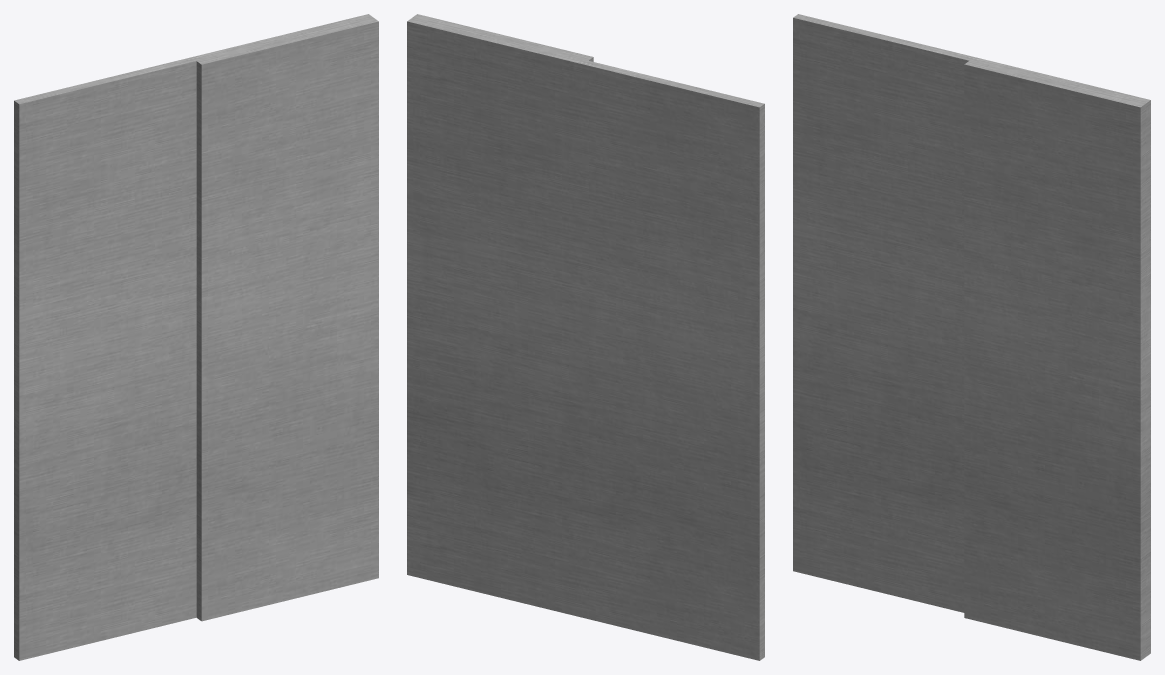
File: PrimeiraPorta.dae
The picture shows the model from 3 angles, left to right: view 1: azimuth 30°, elevation 25°; view 2: azimuth 150°, elevation 25°; view 3: azimuth 330°, elevation 25°; orthographic projection.
Visible parts, largest first — view 1: instance_0; view 2: instance_0; view 3: instance_0.
Boxes of the visible parts, x1,y1,x2,y2 form: instance_0: (14, 14, 378, 660); instance_0: (407, 14, 764, 660); instance_0: (793, 14, 1150, 660).
Size of the model in its own units: 47.24 by 2.36 by 70.87.
1 material, 1 textured.
